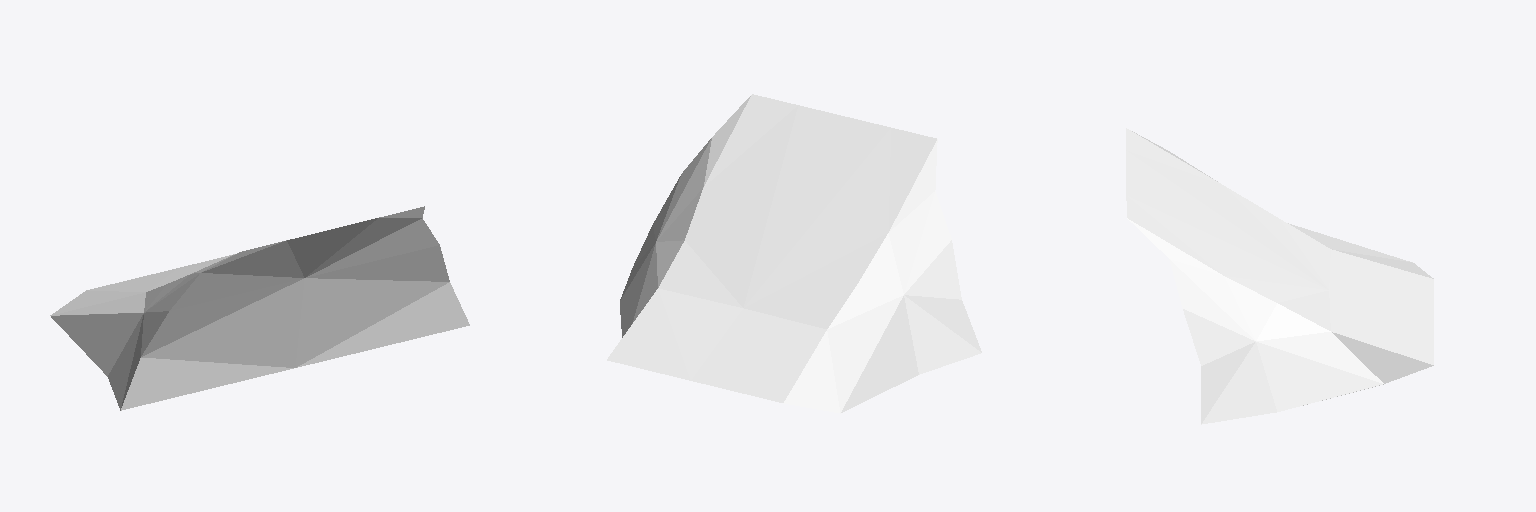
Rendered from Ramp.obj.
3 views of the same model, side by side, from view 1: azimuth 30°, elevation 25°; view 2: azimuth 150°, elevation 25°; view 3: azimuth 270°, elevation 25° (orthographic).
Visible parts, largest first — view 1: Ramp; view 2: Ramp; view 3: Ramp.
Part boxes in pixels (bbox=[...]): Ramp: bbox=[50, 206, 469, 410]; Ramp: bbox=[607, 94, 981, 413]; Ramp: bbox=[1126, 128, 1433, 424].
Bounding box in the file's own units: 18.9 × 8.6 × 14.45.